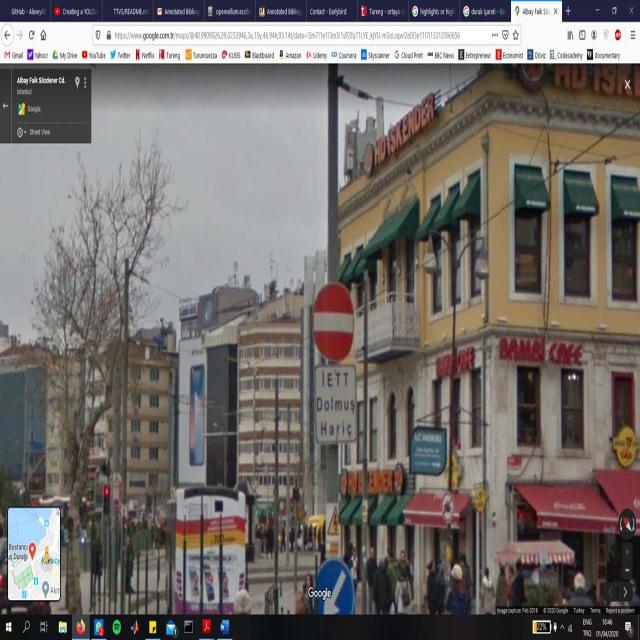girisyok: (314, 282, 353, 363)
